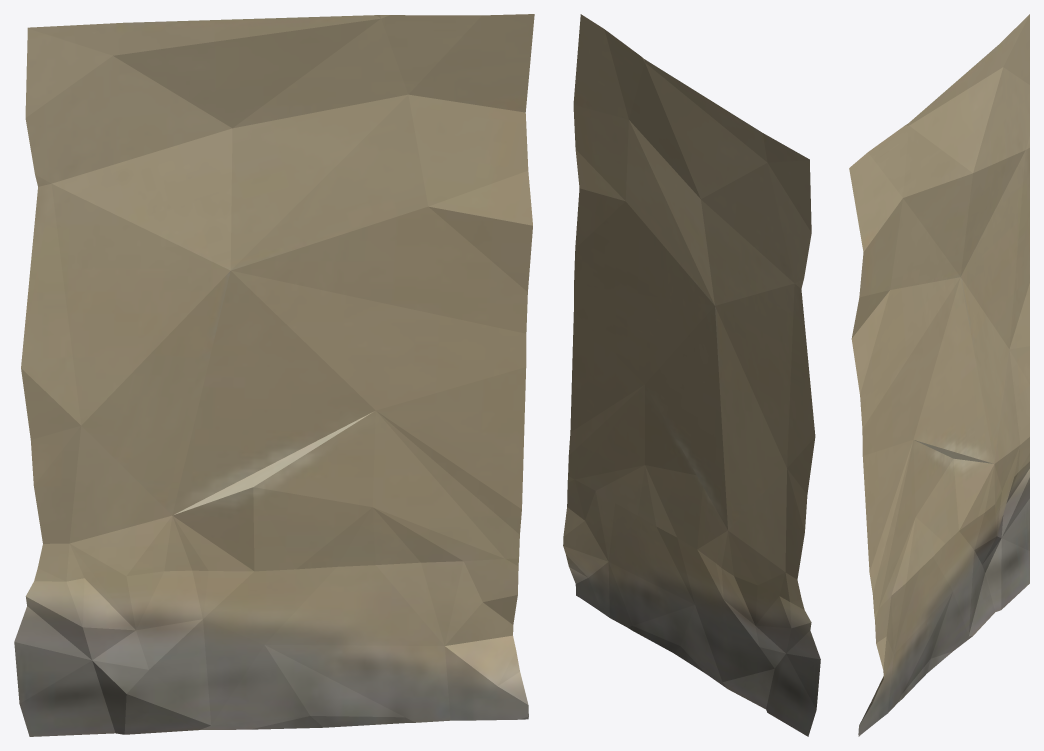
3 views of the same model, side by side, from view 1: azimuth 30°, elevation 25°; view 2: azimuth 150°, elevation 25°; view 3: azimuth 270°, elevation 25° (orthographic). The views are drawn at different scales.
Size of the model in its own units: 0.5033 by 0.8374 by 0.2411.
Materials: 2 (2 with a texture image).
